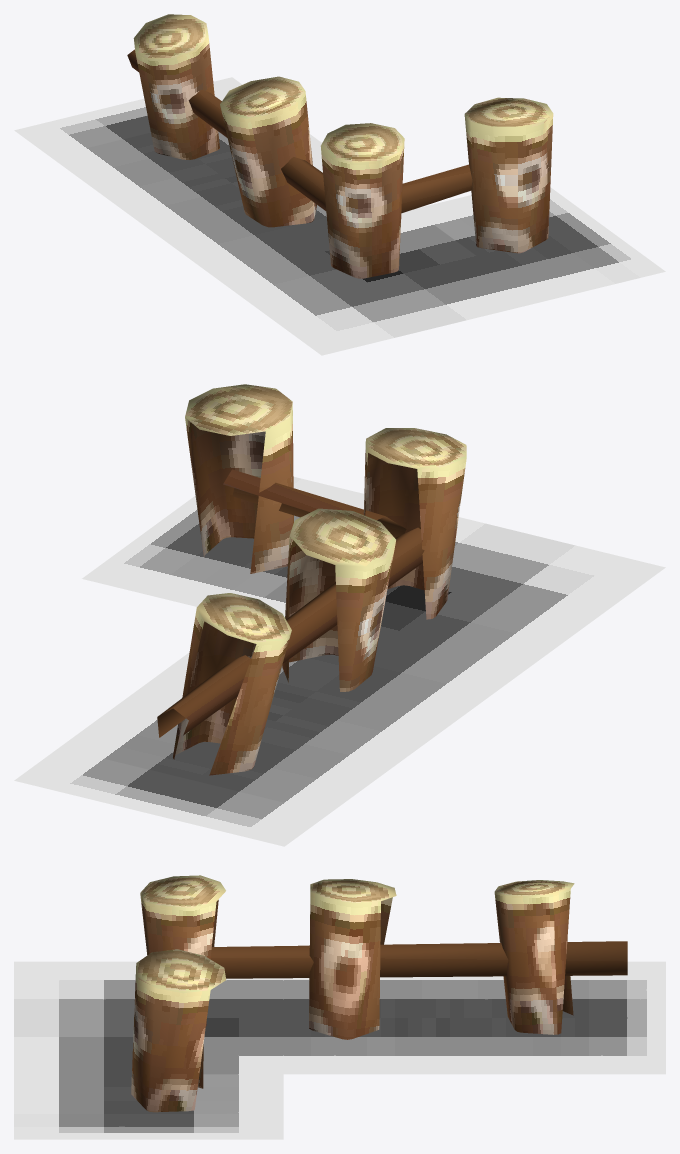
Rendered from int_fence_02.dae.
3 renders of one model, top to bottom at view 1: azimuth 30°, elevation 25°; view 2: azimuth 150°, elevation 25°; view 3: azimuth 270°, elevation 25°, orthographic. The views are drawn at different scales.
Parts seen in each view (by area): view 1: int_fence_02; view 2: int_fence_02; view 3: int_fence_02.
Part boxes in pixels (x1,y1,x2,y2): int_fence_02: (14, 14, 665, 355); int_fence_02: (14, 384, 665, 846); int_fence_02: (14, 875, 665, 1139).
Size of the model in its own units: 43.91 by 20.42 by 68.
2 materials, 2 textured.
